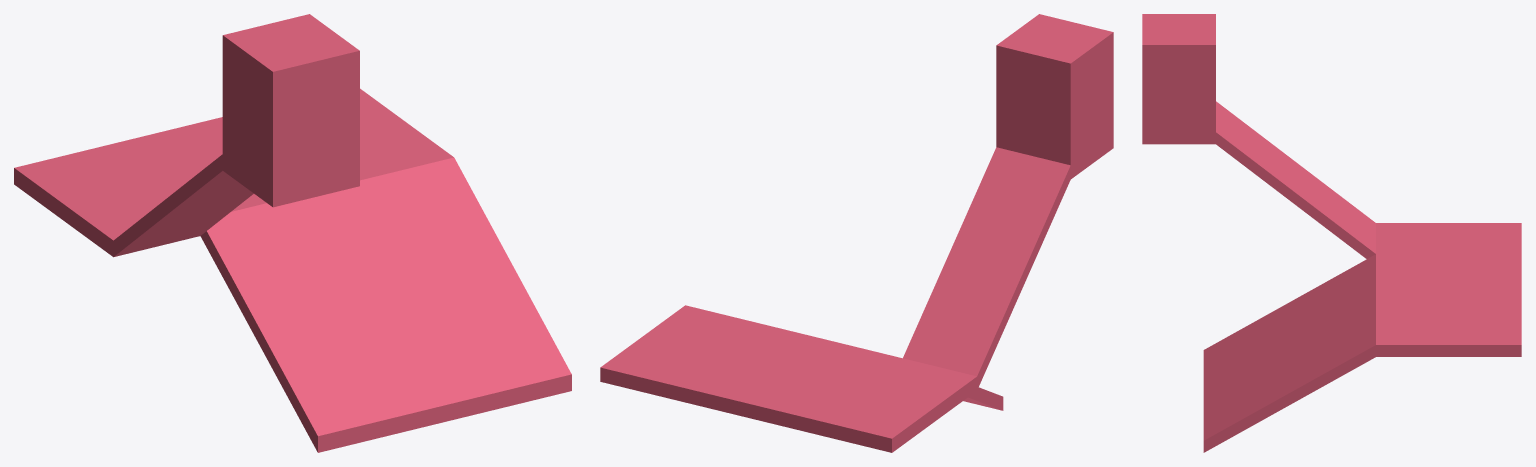
File: greybox.gltf
3 views of the same model, side by side, from view 1: azimuth 30°, elevation 25°; view 2: azimuth 150°, elevation 25°; view 3: azimuth 270°, elevation 25° (orthographic). The views are drawn at different scales.
Parts seen in each view (by area): view 1: LevelGeo-col; view 2: LevelGeo-col; view 3: LevelGeo-col.
Part boxes in pixels (x1=…): LevelGeo-col: x1=14, y1=14, x2=571, y2=452; LevelGeo-col: x1=600, y1=14, x2=1113, y2=452; LevelGeo-col: x1=1142, y1=14, x2=1521, y2=452.
Size of the model in its own units: 42.79 by 51.95 by 56.29.
